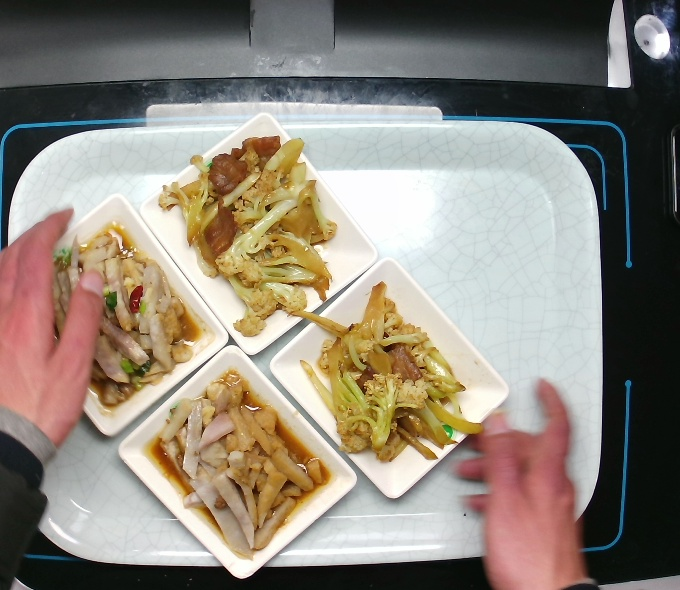wcq-QiuCaiChaoRou: (154, 128, 340, 340), (292, 280, 483, 466)
wcq-YuTou: (151, 362, 336, 566)
